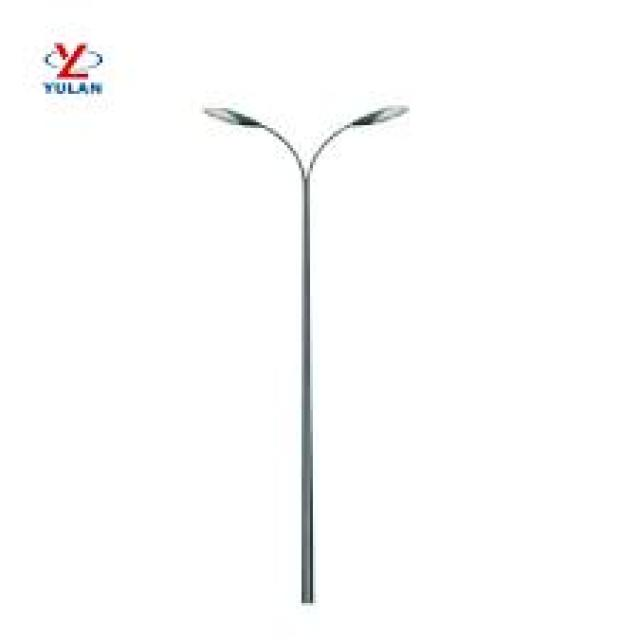Street Light: (202, 102, 407, 606)
